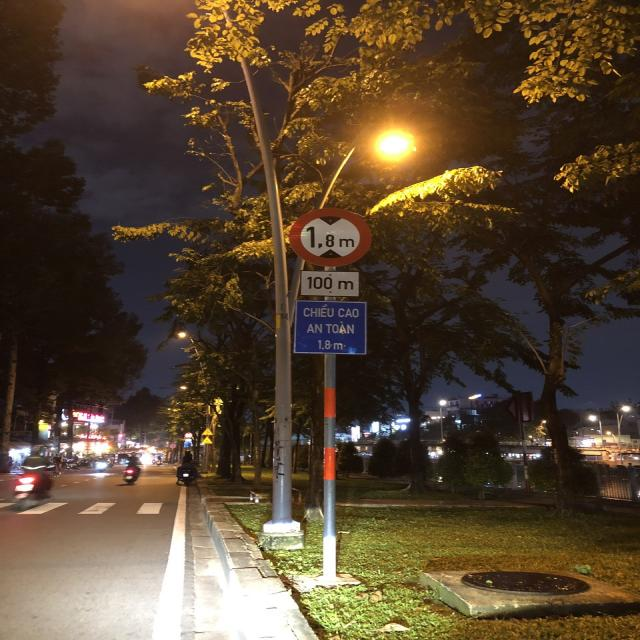Bien bao han che chieu cao: (286, 204, 372, 266)
